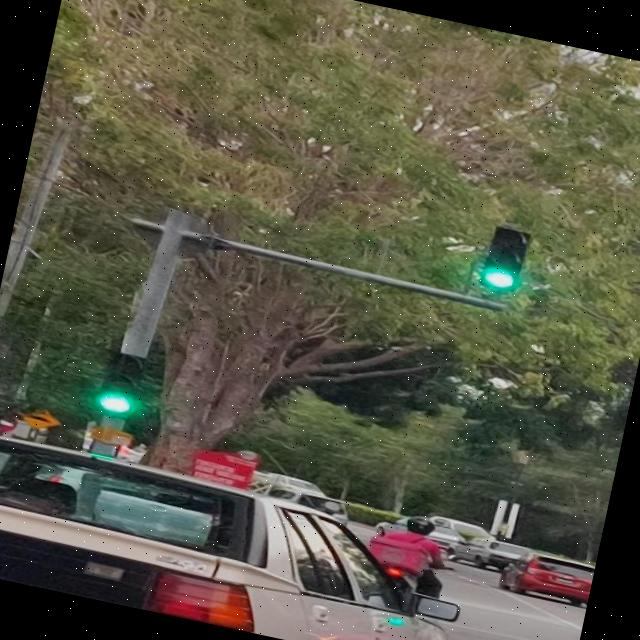green_light: (480, 225, 529, 293), (98, 352, 145, 416)
